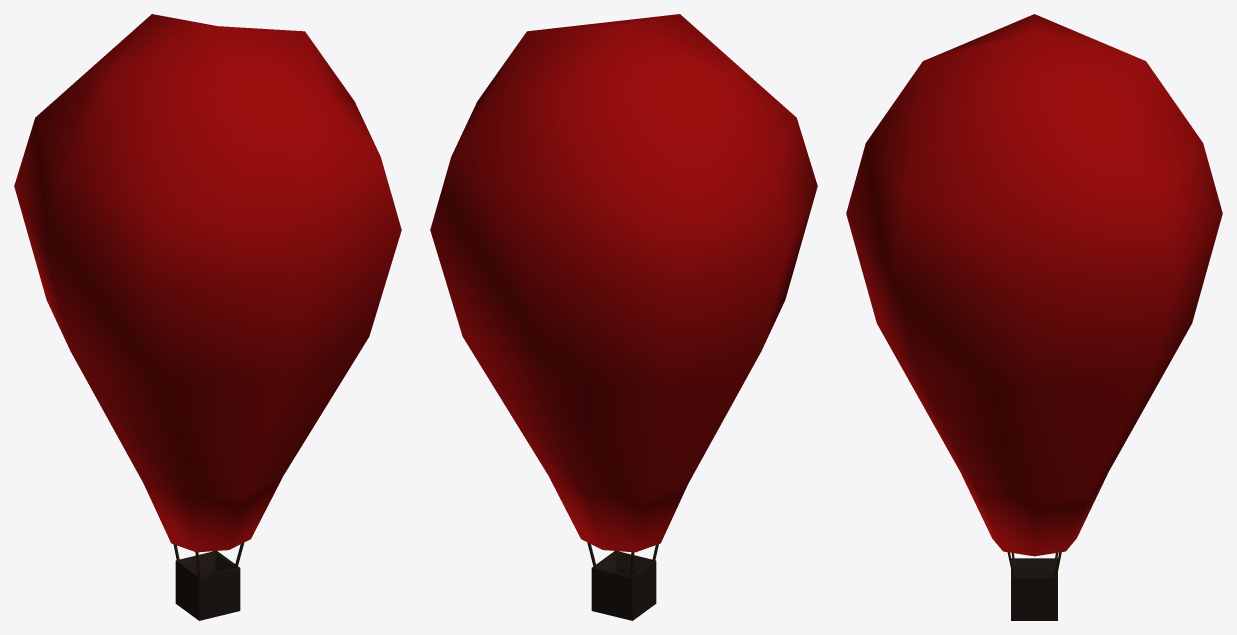
Rendered from Globo.fbx.
The picture shows the model from 3 angles, left to right: view 1: azimuth 30°, elevation 25°; view 2: azimuth 150°, elevation 25°; view 3: azimuth 270°, elevation 25°; orthographic projection.
Visible parts, largest first — view 1: GloboCompleto; view 2: GloboCompleto; view 3: GloboCompleto.
Boxes of the visible parts, x1=… form: GloboCompleto: x1=14, y1=14, x2=401, y2=620; GloboCompleto: x1=430, y1=14, x2=817, y2=620; GloboCompleto: x1=846, y1=14, x2=1222, y2=620.
Bounding box in the file's own units: 163 × 276 × 163.
